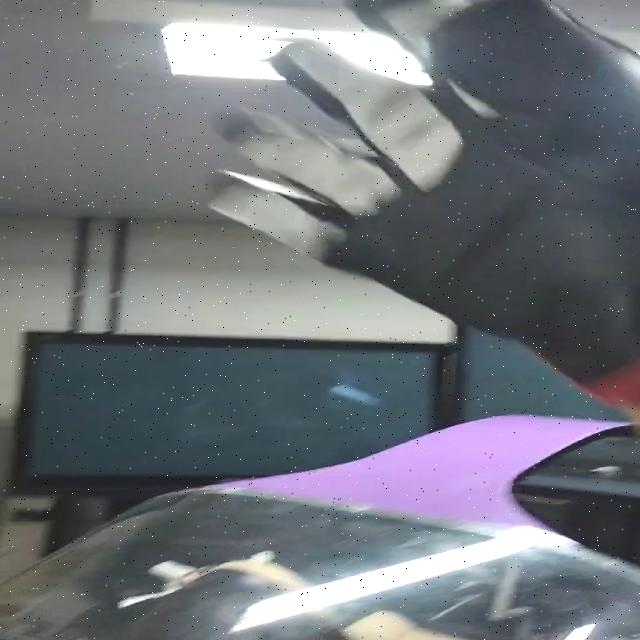Gloves: (205, 0, 640, 399)
